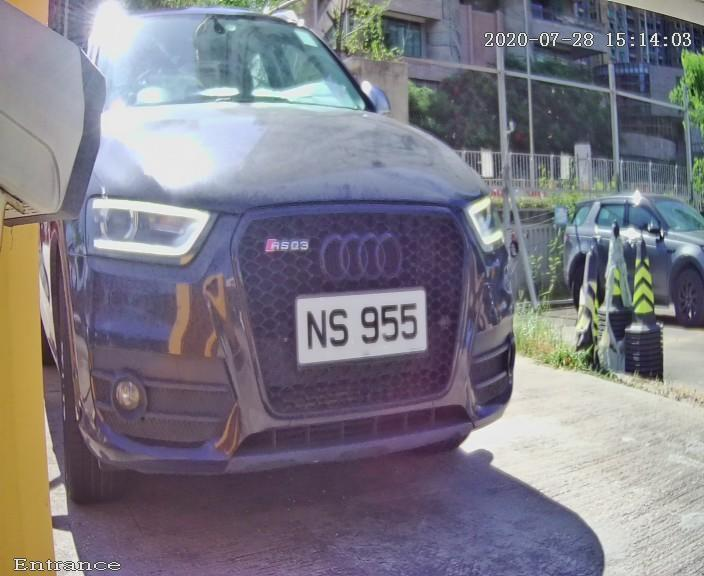privatecar: (7, 16, 576, 535)
